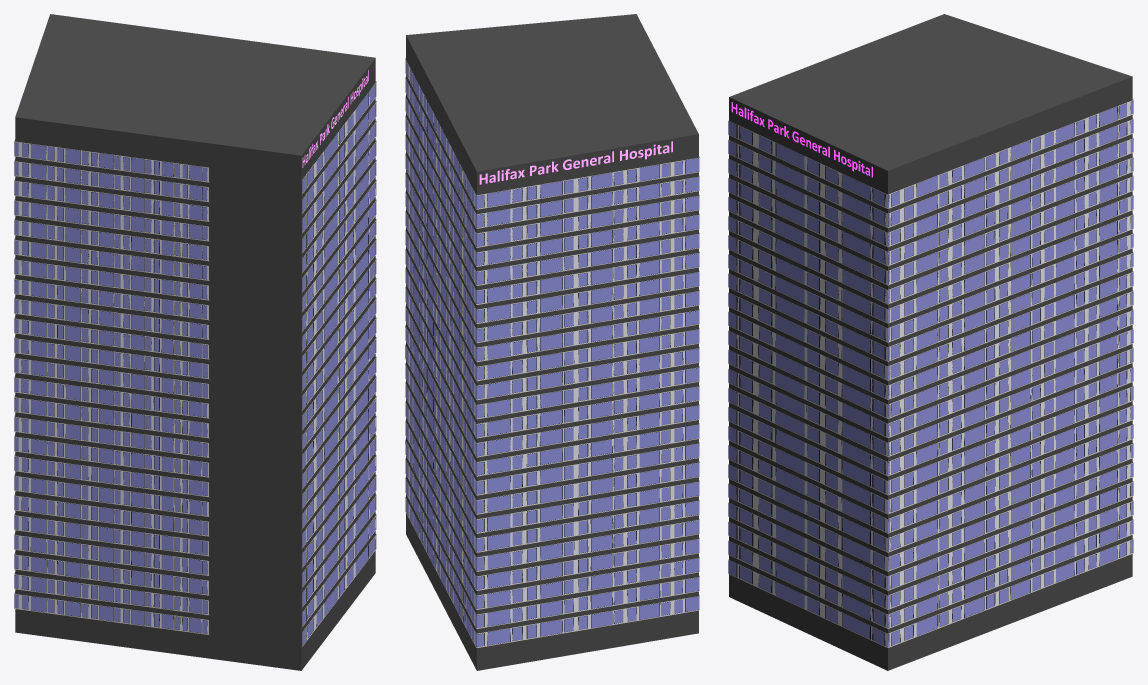
The model's file is HalifaxParkGeneralHospital.fbx.
The picture shows the model from 3 angles, left to right: view 1: azimuth 30°, elevation 25°; view 2: azimuth 150°, elevation 25°; view 3: azimuth 270°, elevation 25°; orthographic projection. The views are drawn at different scales.
Parts seen in each view (by area): view 1: HalifaxParkGeneralHospital; view 2: HalifaxParkGeneralHospital; view 3: HalifaxParkGeneralHospital.
Boxes of the visible parts, <box> form: HalifaxParkGeneralHospital: <box>14,14,376,670</box>; HalifaxParkGeneralHospital: <box>405,14,699,670</box>; HalifaxParkGeneralHospital: <box>728,14,1133,670</box>.
Bounding box in the file's own units: 4732 × 7000 × 5140.
